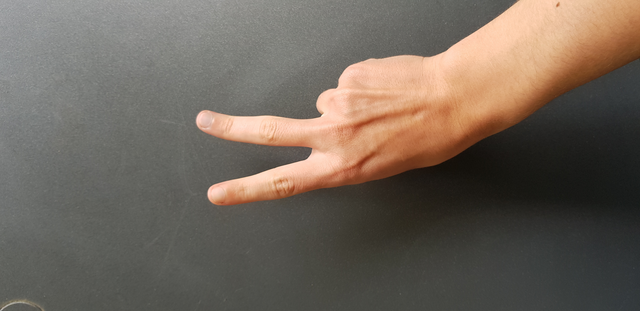Scissors: (176, 38, 463, 206)
